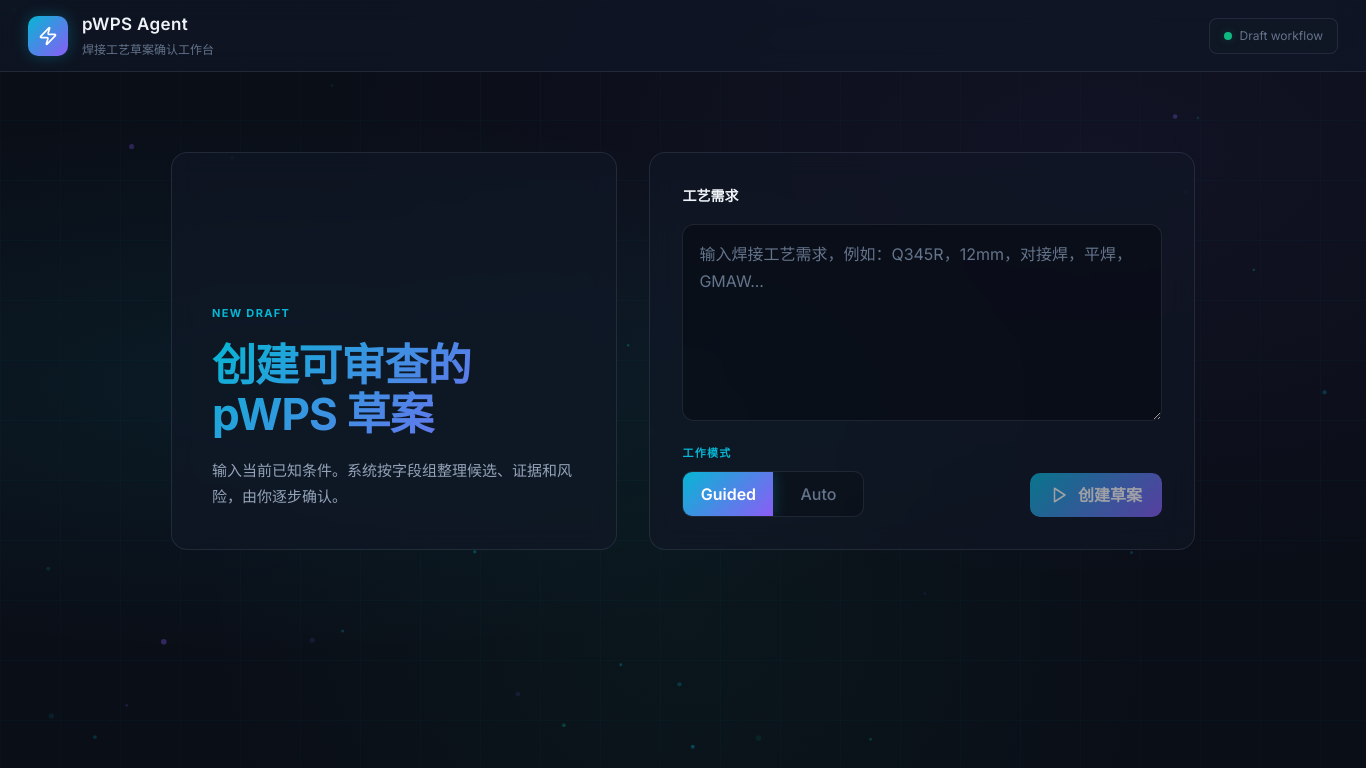
it: GuidedWorkbench › shows error message when run creation fails
Step 1. Type "Q345R，12mm，对接焊，平焊，GMAW，生成 pWPS 草案" into the text box labelled "工艺需求" → (922, 323), box [682,224,1162,421]
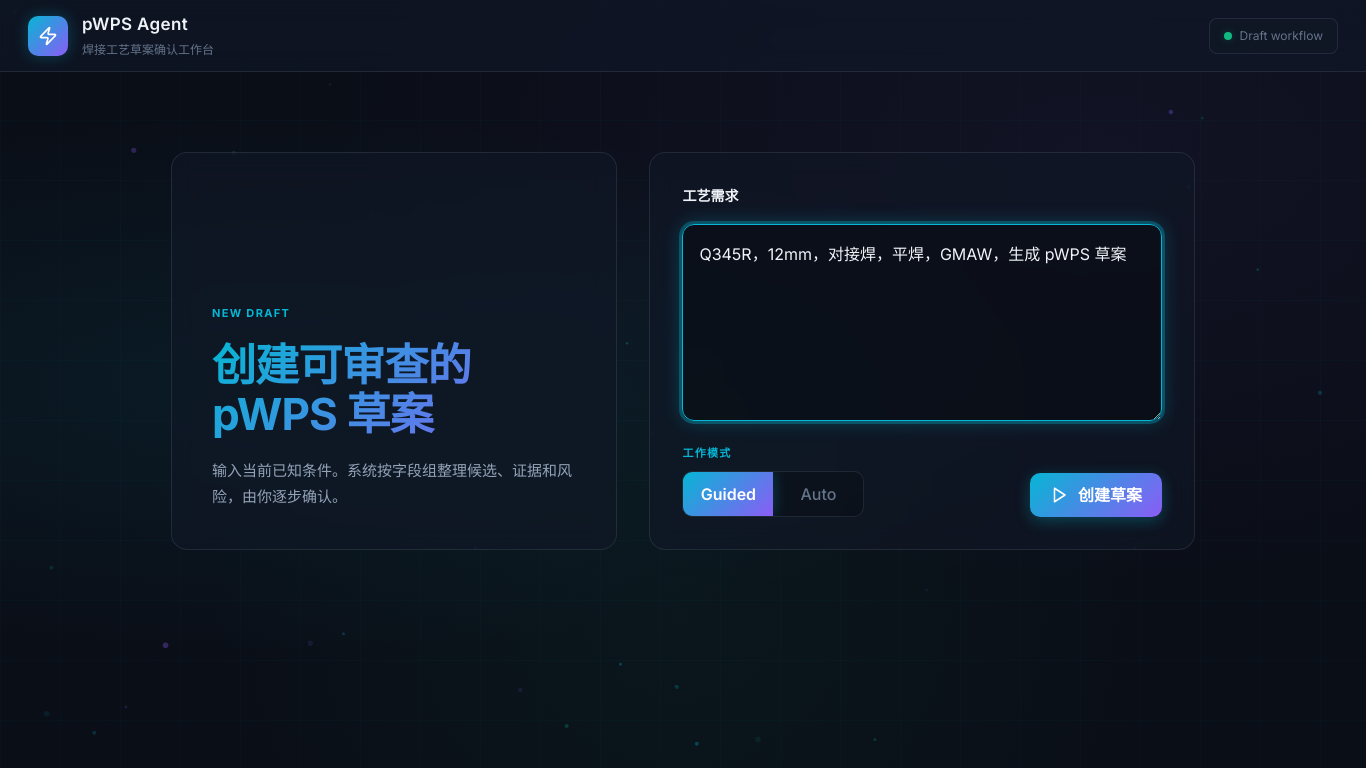
Step 2. Click the button "创建草案" → (1096, 495), box [1030,473,1162,517]
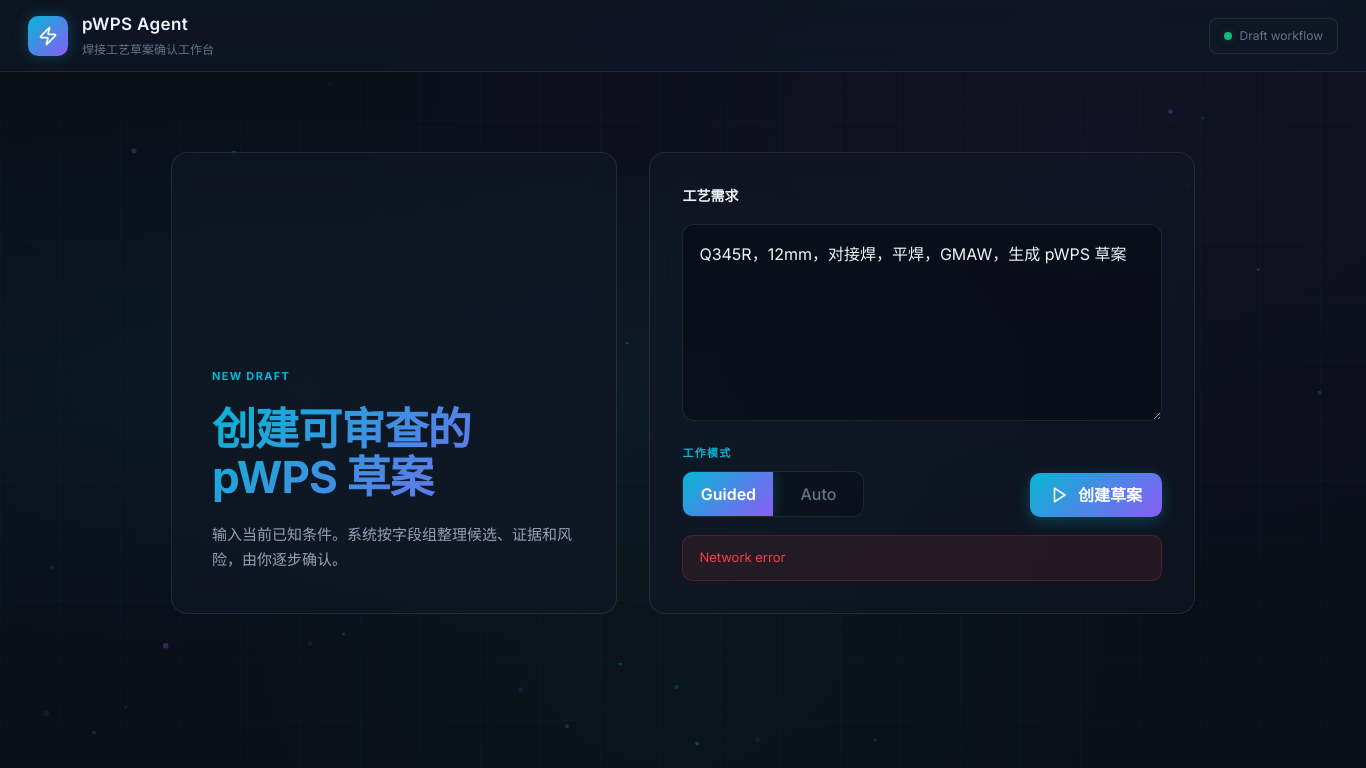
expect the text "Network error" is shown: met, box [682,535,1162,581]
